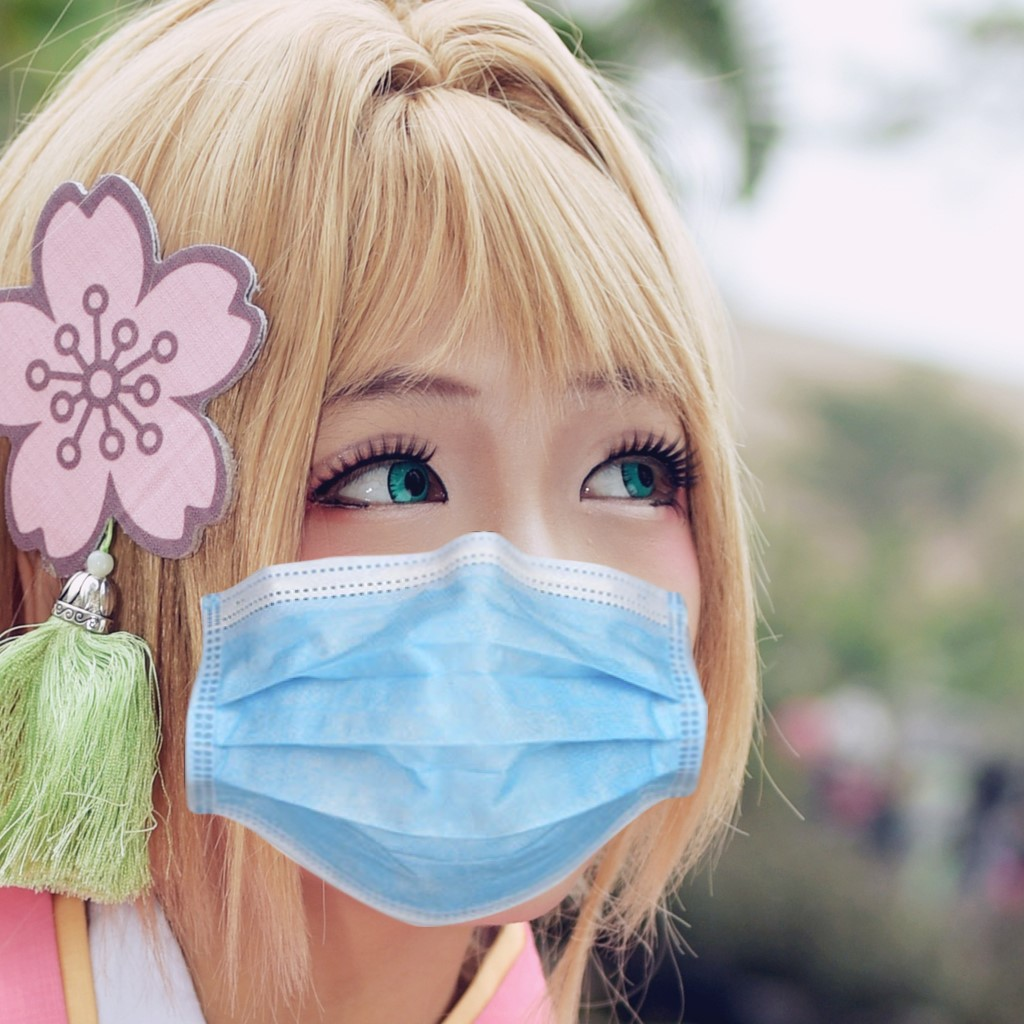con_mascara: (146, 197, 740, 960)
